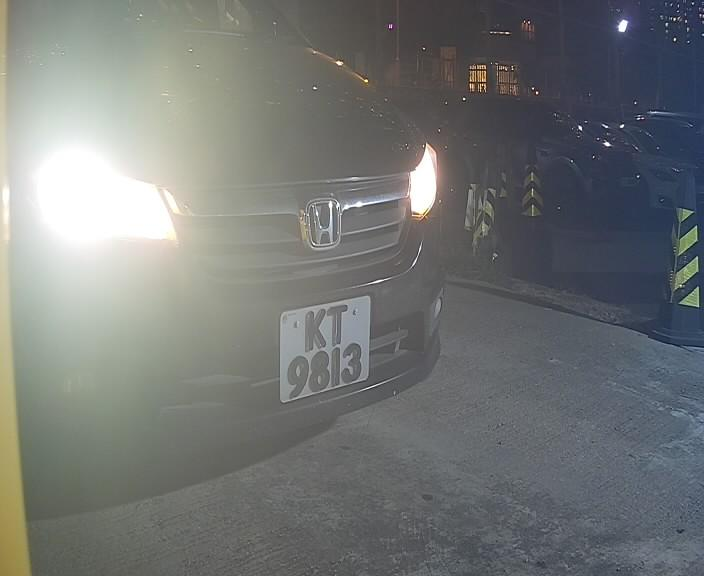License Plate: (268, 286, 384, 404)
